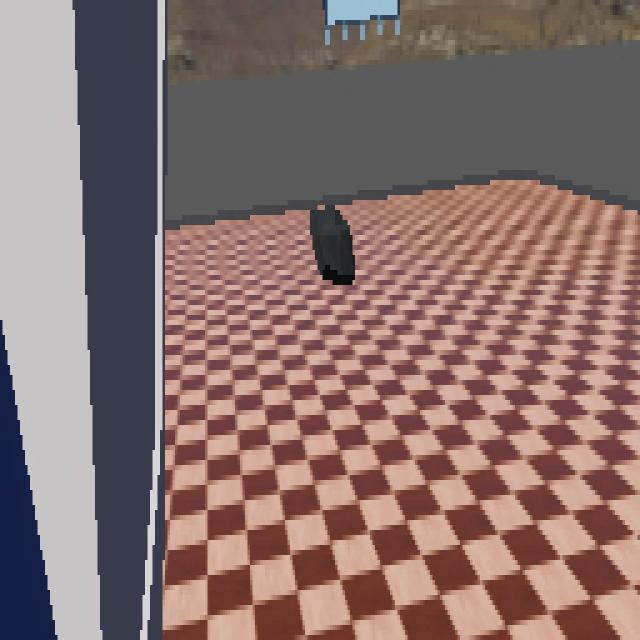rock: (311, 203, 354, 284)
